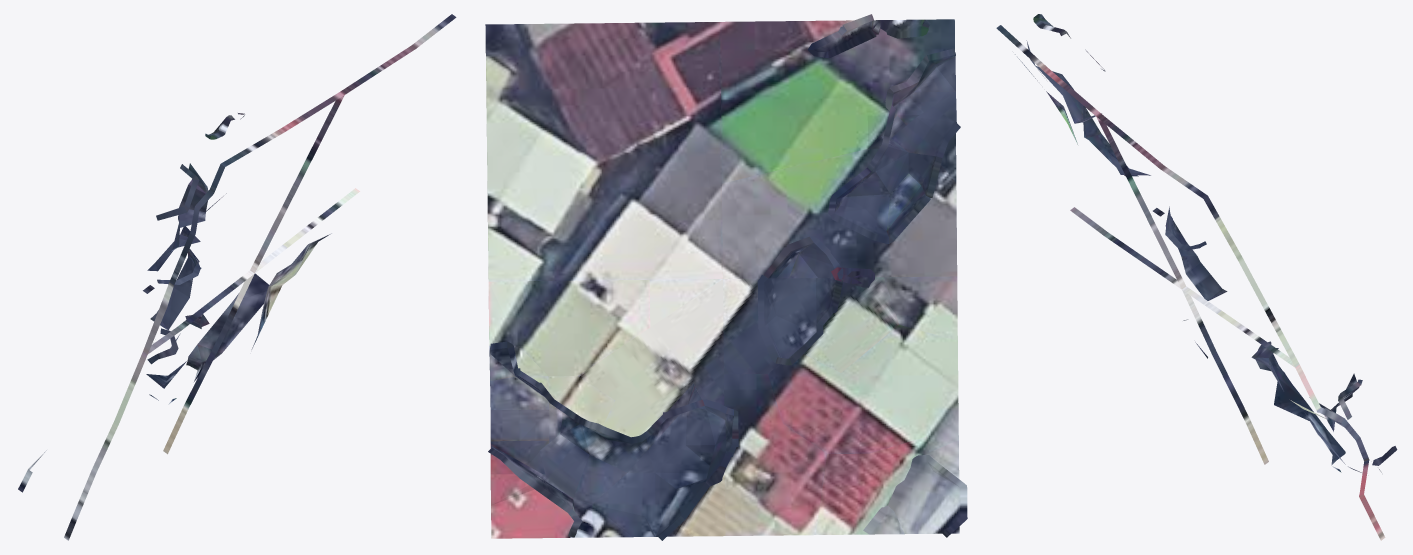
The picture shows the model from 3 angles, left to right: view 1: azimuth 30°, elevation 25°; view 2: azimuth 150°, elevation 25°; view 3: azimuth 270°, elevation 25°; orthographic projection. The views are drawn at different scales.
Bounding box in the file's own units: 40.61 × 37.25 × 32.18.
Materials: 1 (1 with a texture image).
